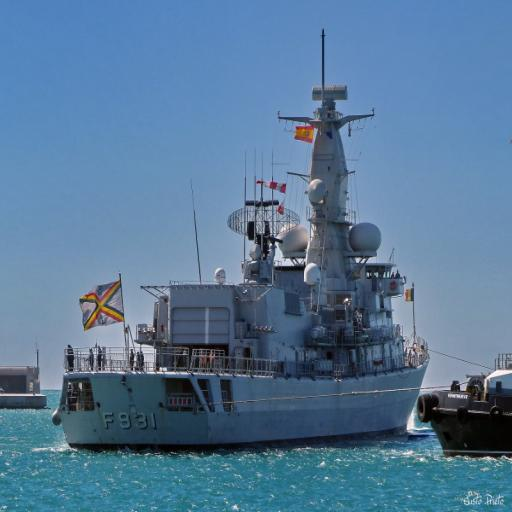Fragata: (51, 6, 434, 456)
